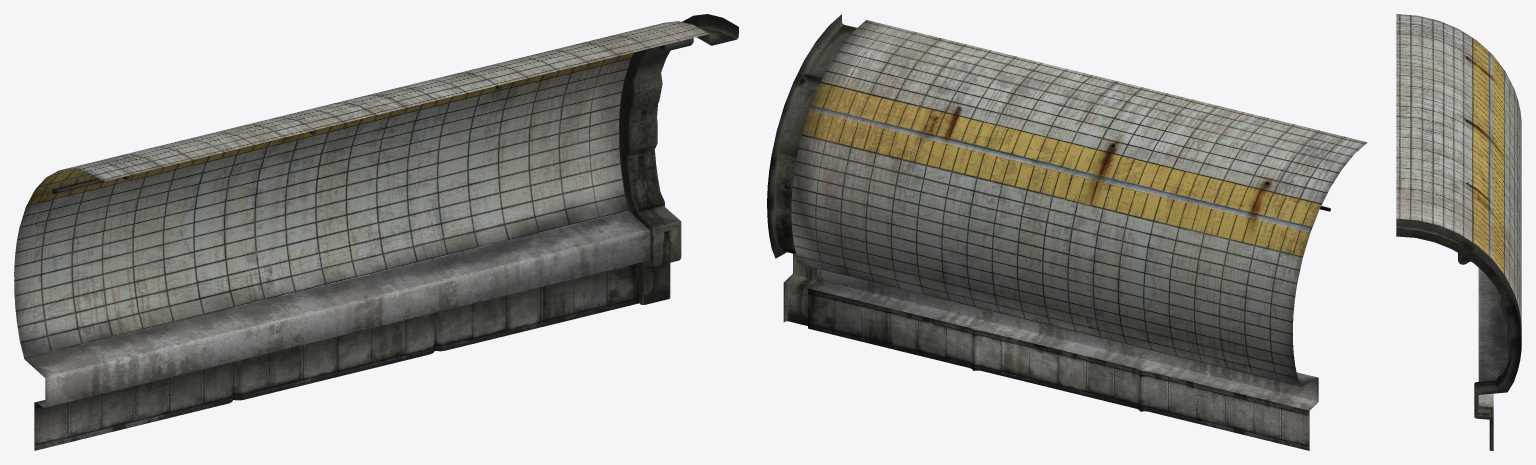
The model's file is 00_02_station_wall.dae.
3 renders of one model, left to right at view 1: azimuth 30°, elevation 25°; view 2: azimuth 150°, elevation 25°; view 3: azimuth 270°, elevation 25°, orthographic. The views are drawn at different scales.
Visible parts, largest first — view 1: Object01; view 2: Object01; view 3: Object01.
Boxes of the visible parts, <box> form: Object01: <box>14,14,738,450</box>; Object01: <box>767,14,1367,450</box>; Object01: <box>1396,14,1521,450</box>.
Bounding box in the file's own units: 2010 × 967 × 494.
